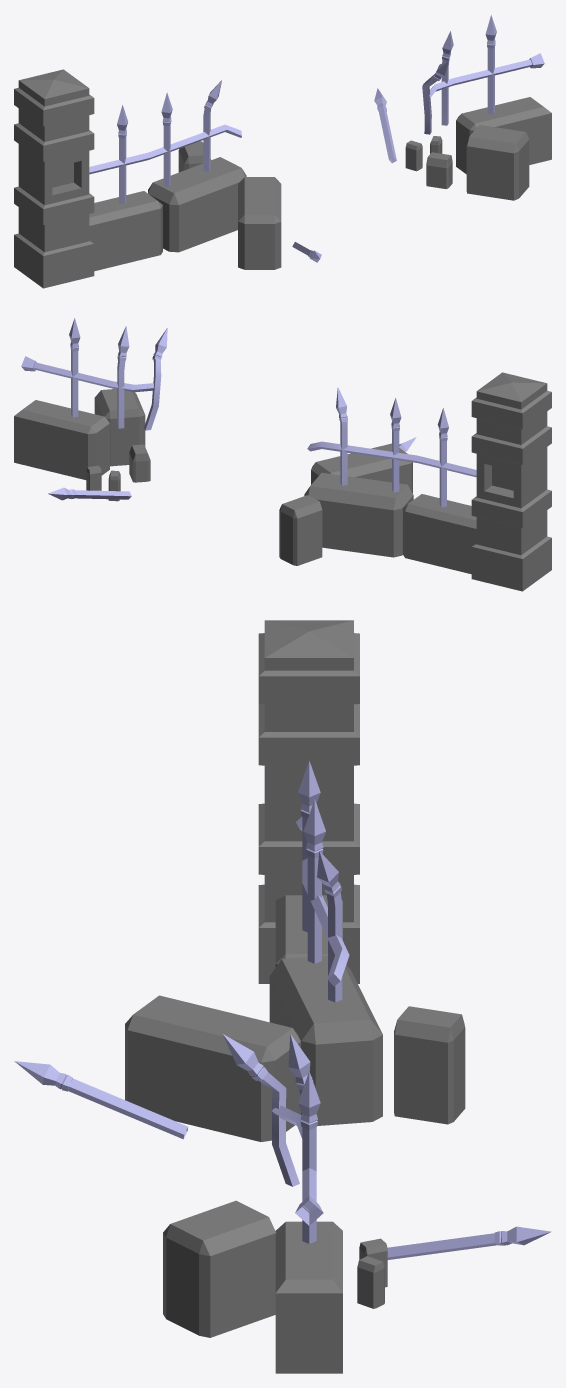
The model's file is SM_Fence_01.fbx.
3 renders of one model, top to bottom at view 1: azimuth 30°, elevation 25°; view 2: azimuth 150°, elevation 25°; view 3: azimuth 270°, elevation 25°, orthographic. The views are drawn at different scales.
Parts seen in each view (by area): view 1: Object025; view 2: Object025; view 3: Object025.
Boxes of the visible parts, x1=… form: Object025: x1=14, y1=15, x2=551, y2=288; Object025: x1=14, y1=318, x2=551, y2=591; Object025: x1=14, y1=620, x2=551, y2=1373.
Size of the model in its own units: 303 by 109 by 159.
